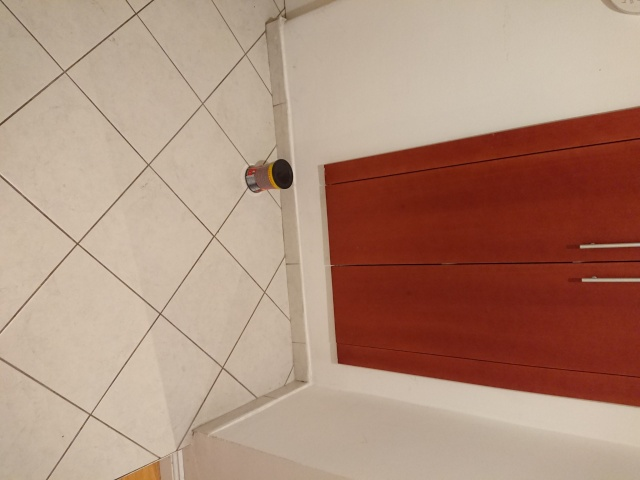Nescafe Classic 225g: (242, 156, 296, 195)
